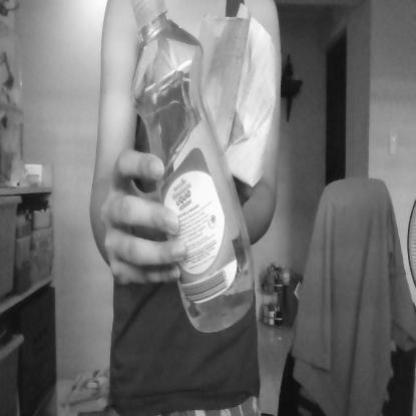Plastic Bottle: (126, 0, 258, 334)
